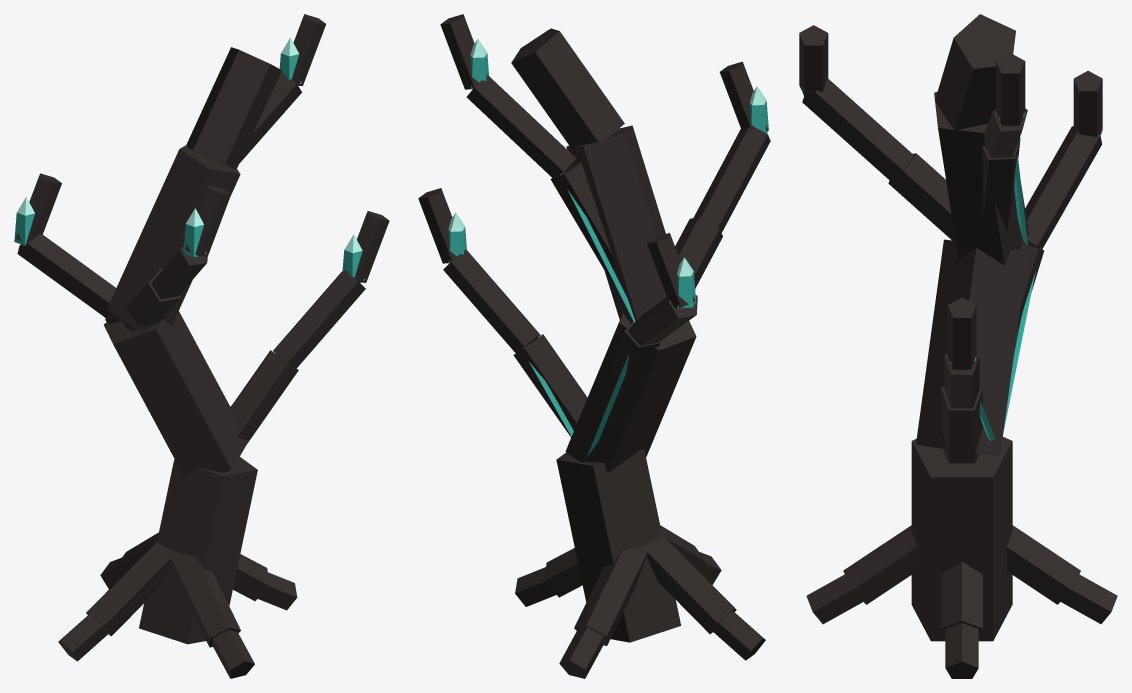
The model's file is AbyssTree_A.fbx.
The picture shows the model from 3 angles, left to right: view 1: azimuth 30°, elevation 25°; view 2: azimuth 150°, elevation 25°; view 3: azimuth 270°, elevation 25°; orthographic projection. The views are drawn at different scales.
Parts seen in each view (by area): view 1: AbyssTree_A; view 2: AbyssTree_A; view 3: AbyssTree_A.
Boxes of the visible parts, bbox=[...] form: AbyssTree_A: bbox=[14, 14, 389, 678]; AbyssTree_A: bbox=[418, 14, 770, 678]; AbyssTree_A: bbox=[799, 14, 1117, 678].
Size of the model in its own units: 1.41 by 2.35 by 1.04.
Materials: 1 (1 with a texture image).
